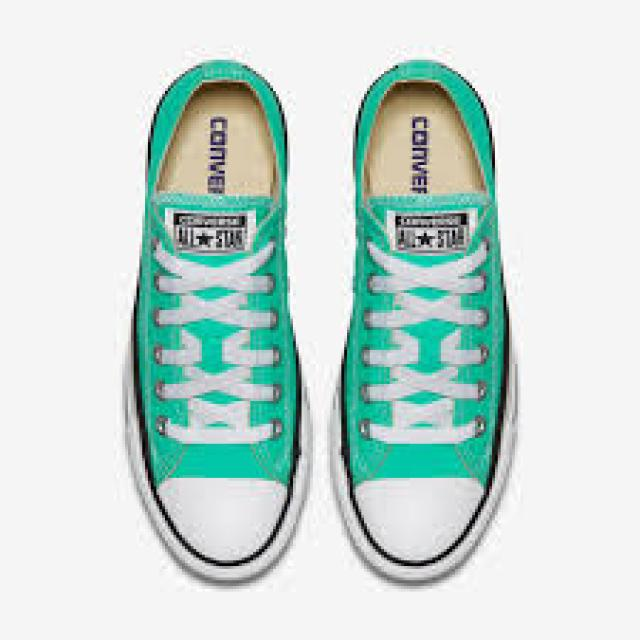shoes: (121, 60, 325, 589), (335, 63, 525, 586)
